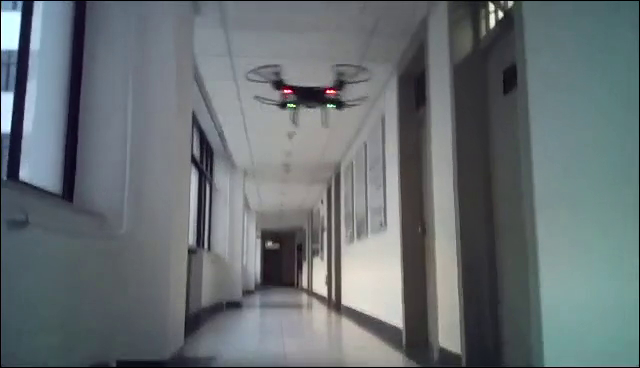drone: (245, 62, 373, 126)
